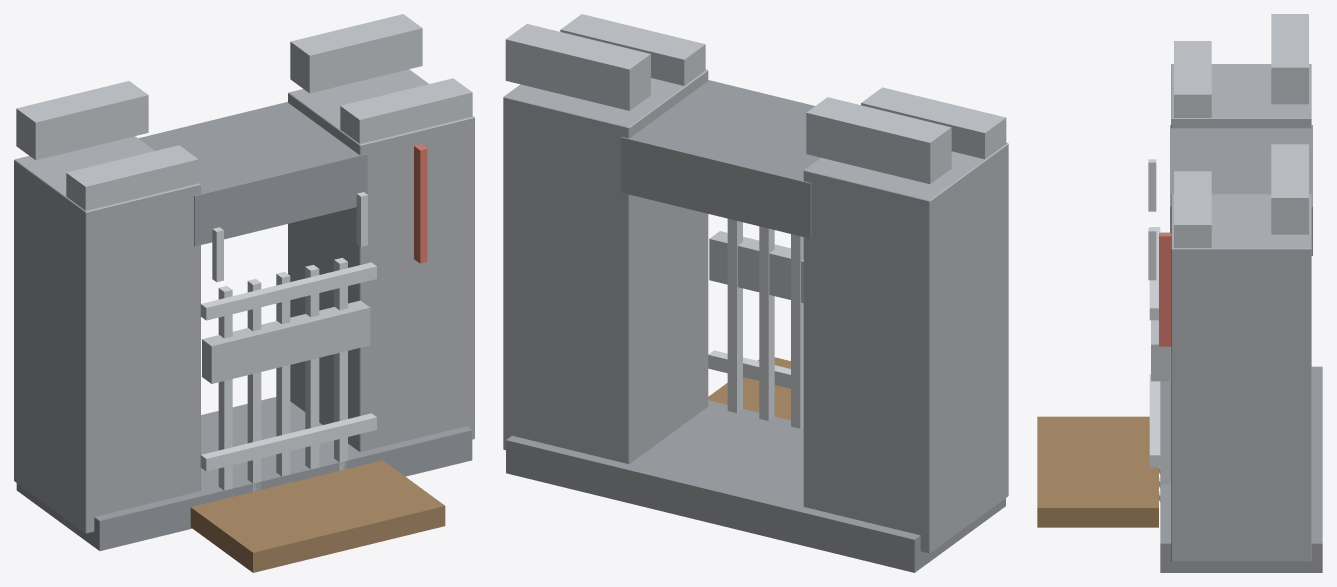
The model's file is gatehouse.glb.
3 views of the same model, side by side, from view 1: azimuth 30°, elevation 25°; view 2: azimuth 150°, elevation 25°; view 3: azimuth 270°, elevation 25° (orthographic). The views are drawn at different scales.
Visible parts, largest first — view 1: base; view 2: base; view 3: base.
Part boxes in pixels (box(x1,y1,x2,y2)): base: box(14, 14, 474, 572); base: box(503, 14, 1008, 572); base: box(1037, 14, 1322, 572).
Size of the model in its own units: 3.24 by 3.12 by 2.11.
